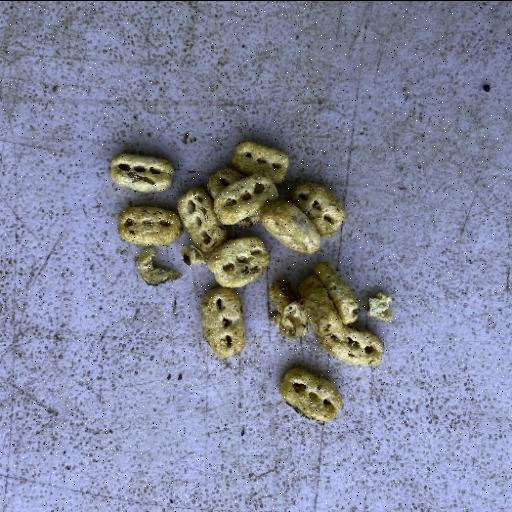Waste: (107, 138, 395, 424), (277, 366, 343, 422), (200, 286, 246, 358), (115, 204, 183, 247), (108, 152, 176, 194), (134, 247, 182, 287)
